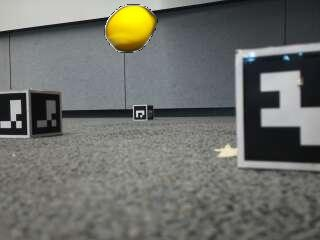lemon: (106, 6, 156, 51)
